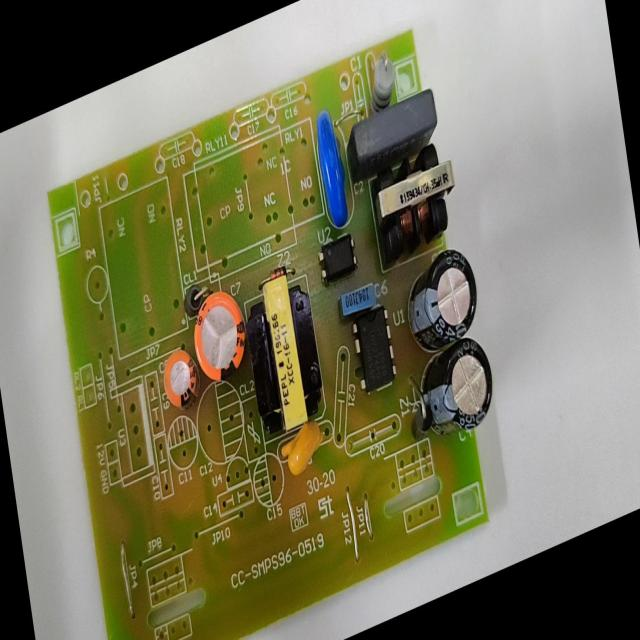Cap1: (186, 276, 253, 392)
Cap2: (158, 335, 202, 418)
Cap3: (396, 235, 484, 364)
Cap4: (413, 328, 501, 458)
MOSFET: (346, 297, 400, 402)
Mov: (309, 96, 356, 240)
Resistor: (365, 40, 400, 112)
Transformer: (239, 259, 330, 447), (370, 133, 463, 265)
